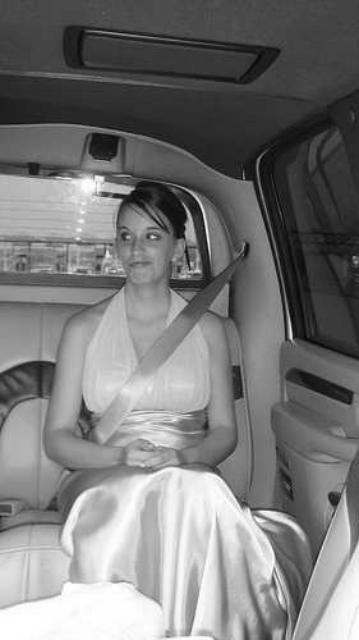SafeDriving: (142, 228, 166, 244), (115, 228, 135, 244)
Seatbelt: (82, 247, 250, 451)
